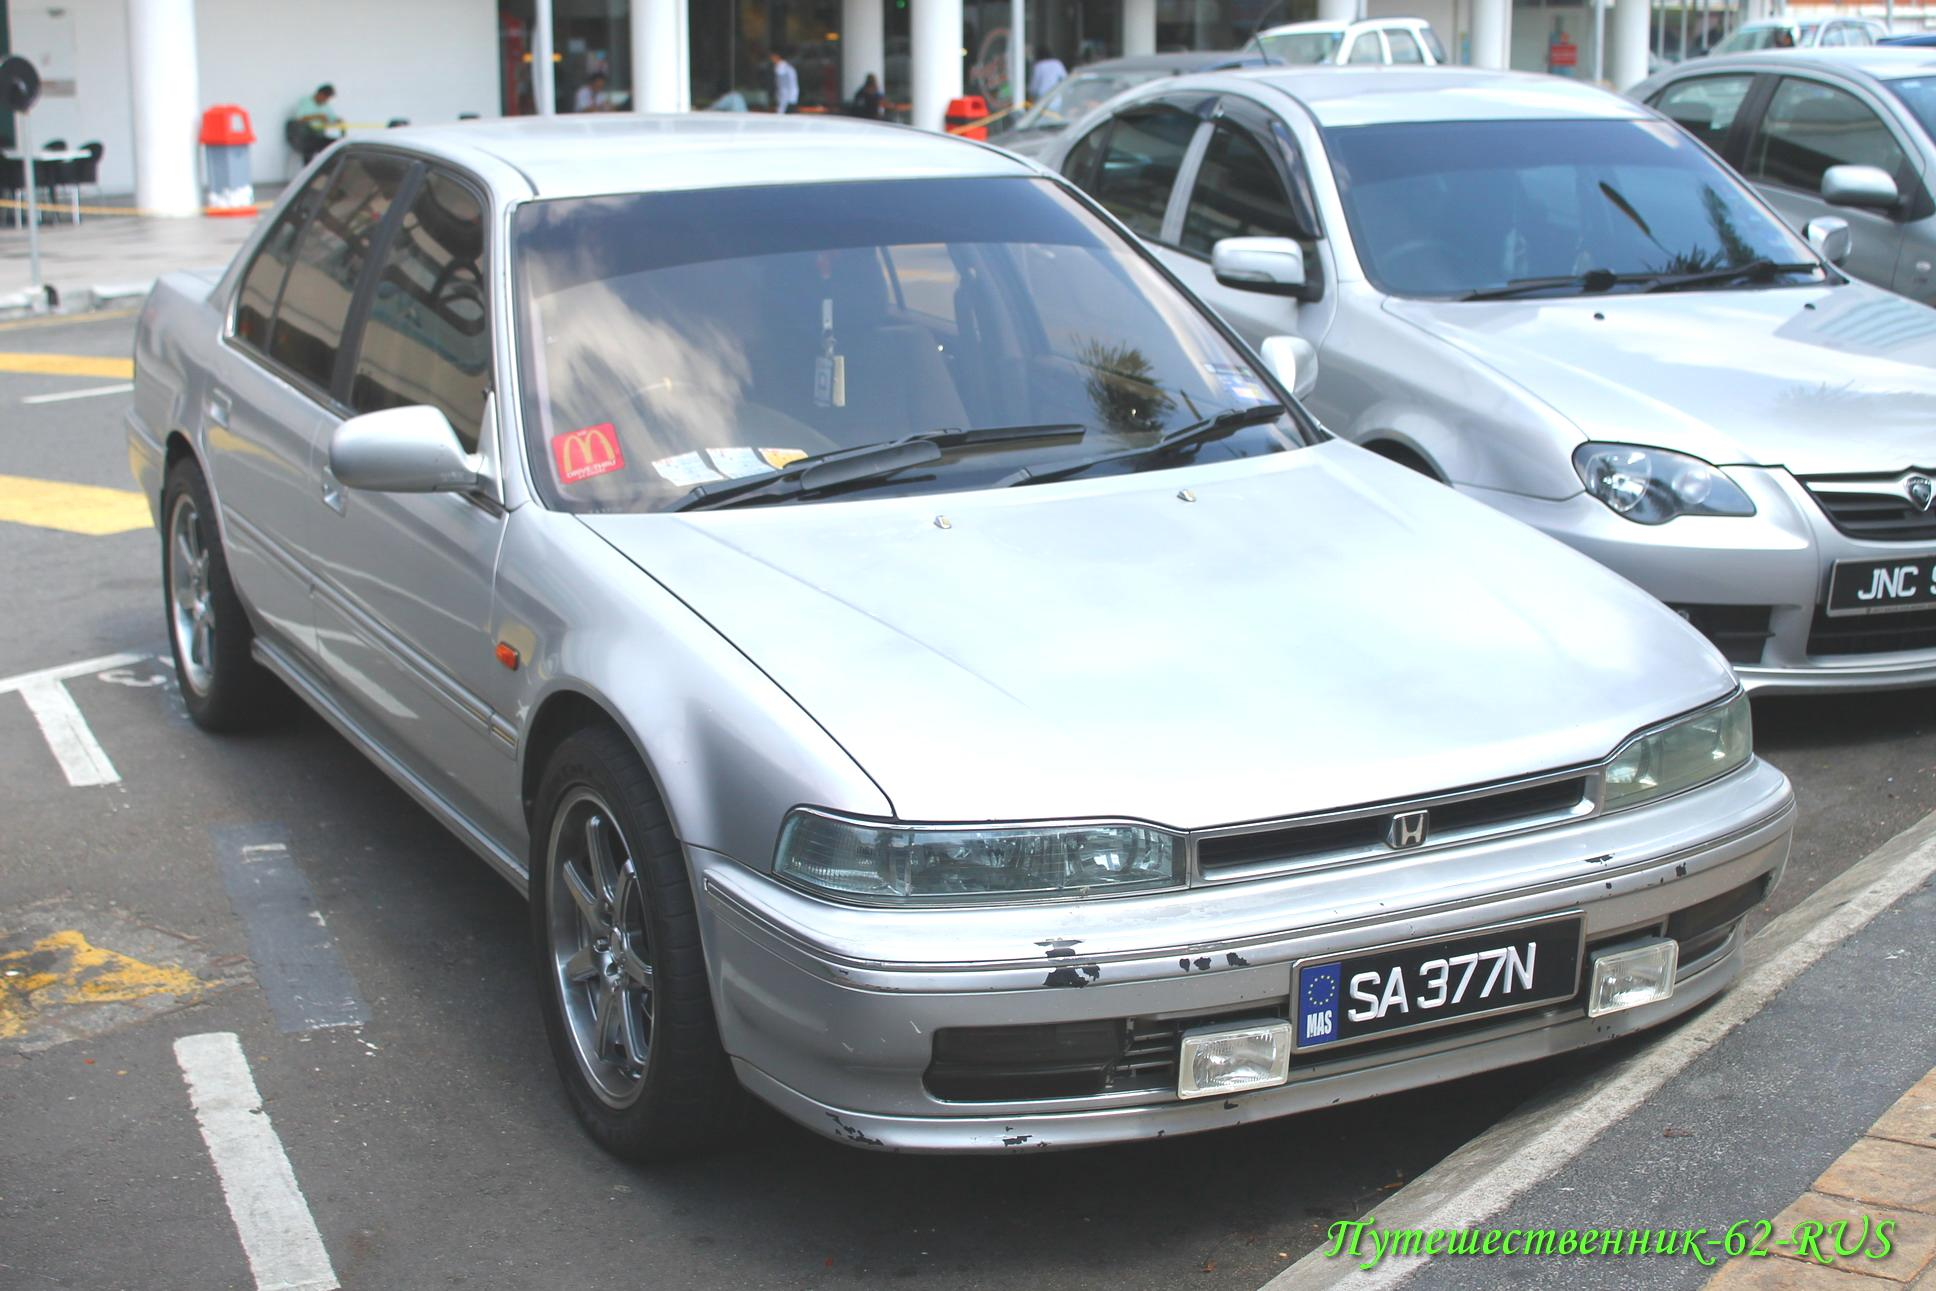License Plate: (1307, 914, 1584, 1041)
